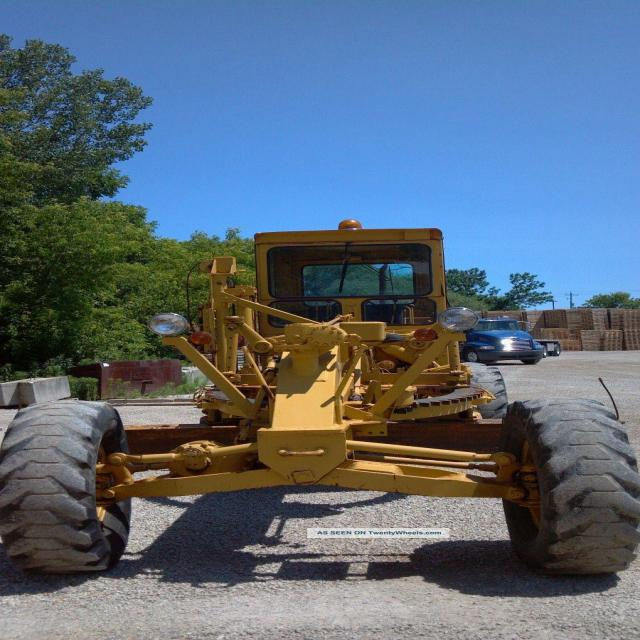Grader: (6, 216, 640, 592)
